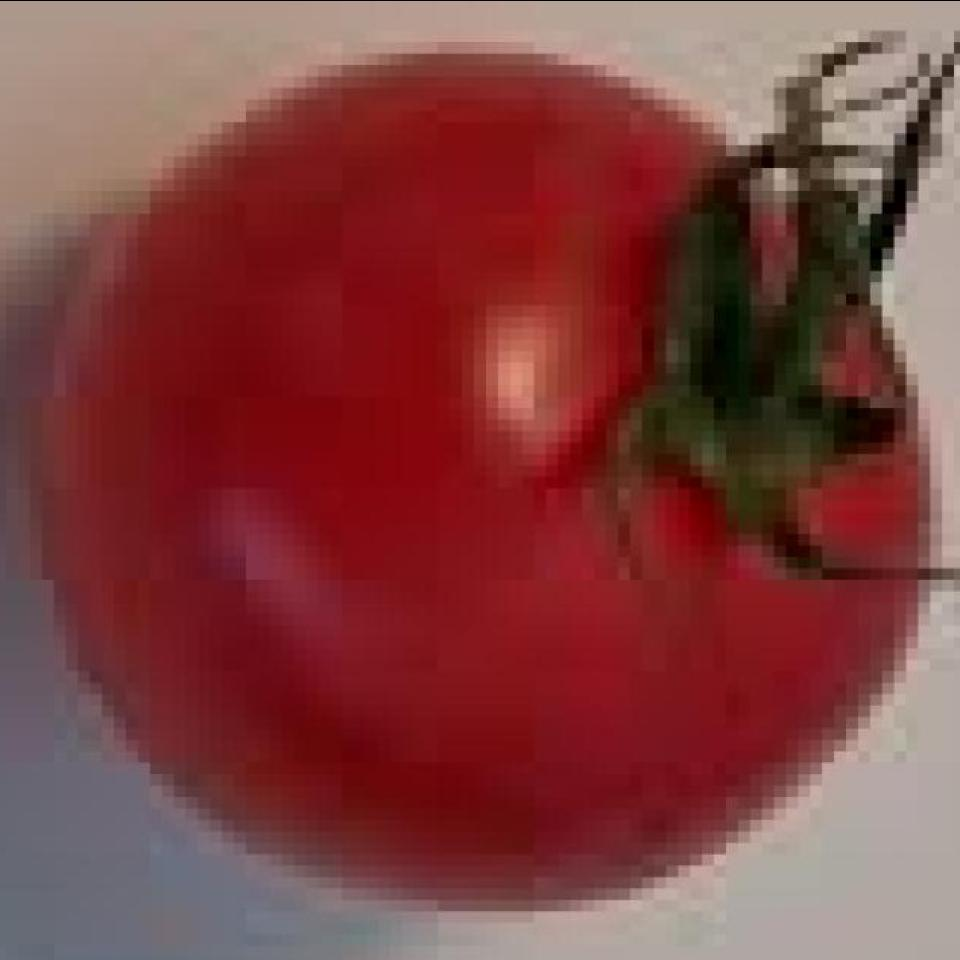Healthy: (0, 23, 960, 939)
